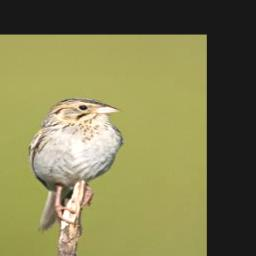Sparrow: (28, 96, 124, 231)
